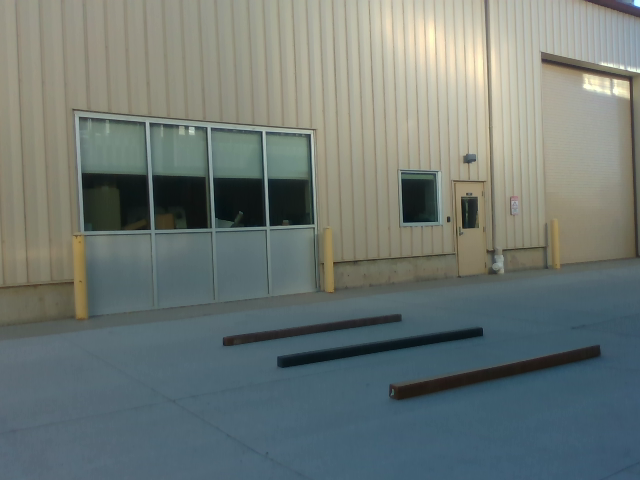Dunnage: (197, 293, 616, 408)
